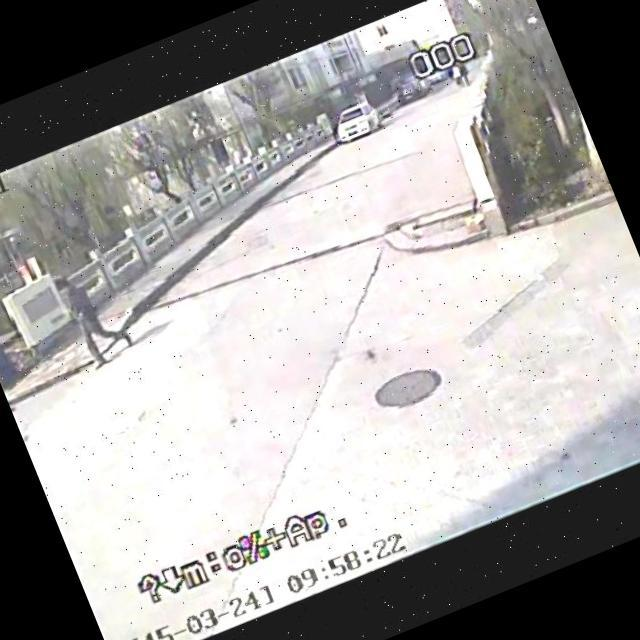person: (49, 254, 140, 372), (438, 54, 478, 96)
